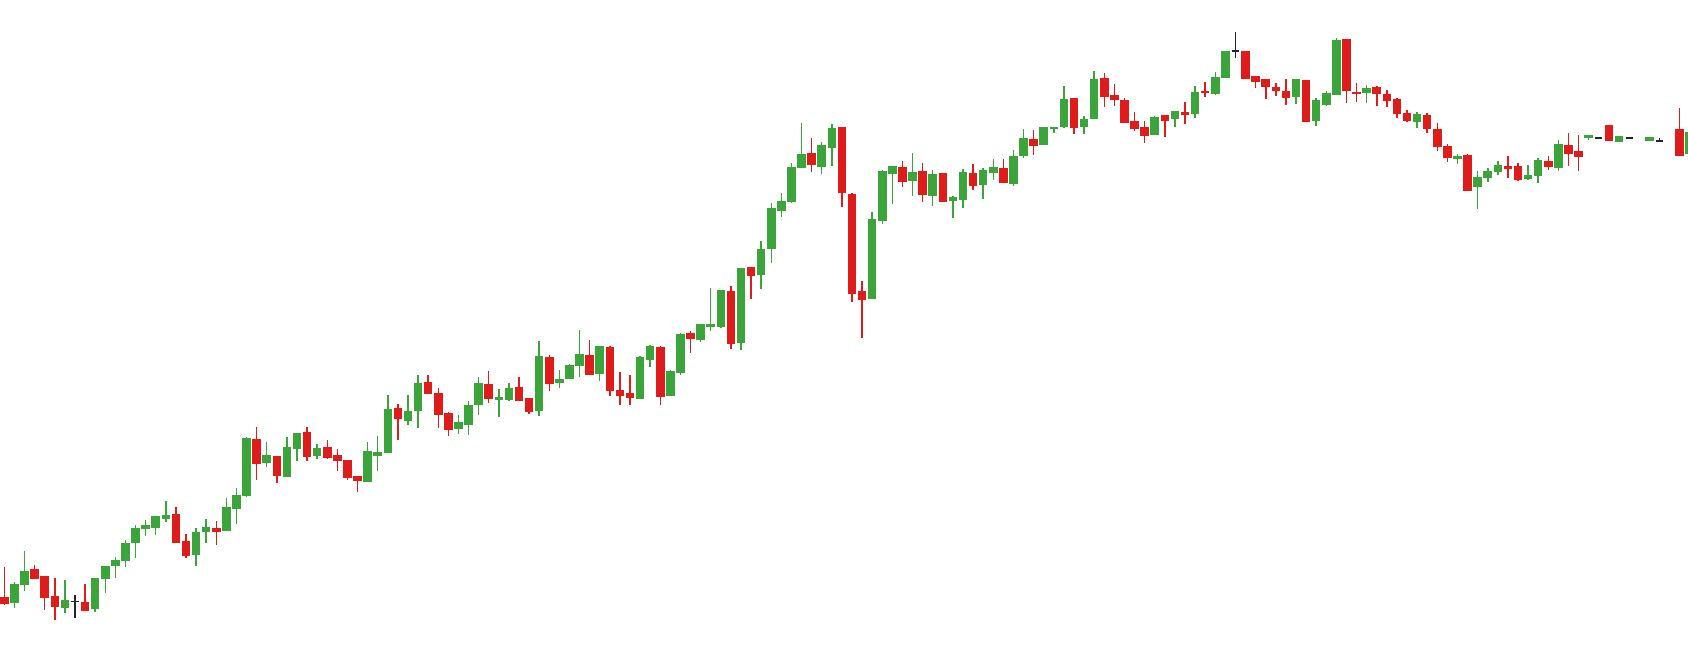buy: (746, 212, 880, 338), (272, 450, 374, 496), (617, 365, 677, 406)
